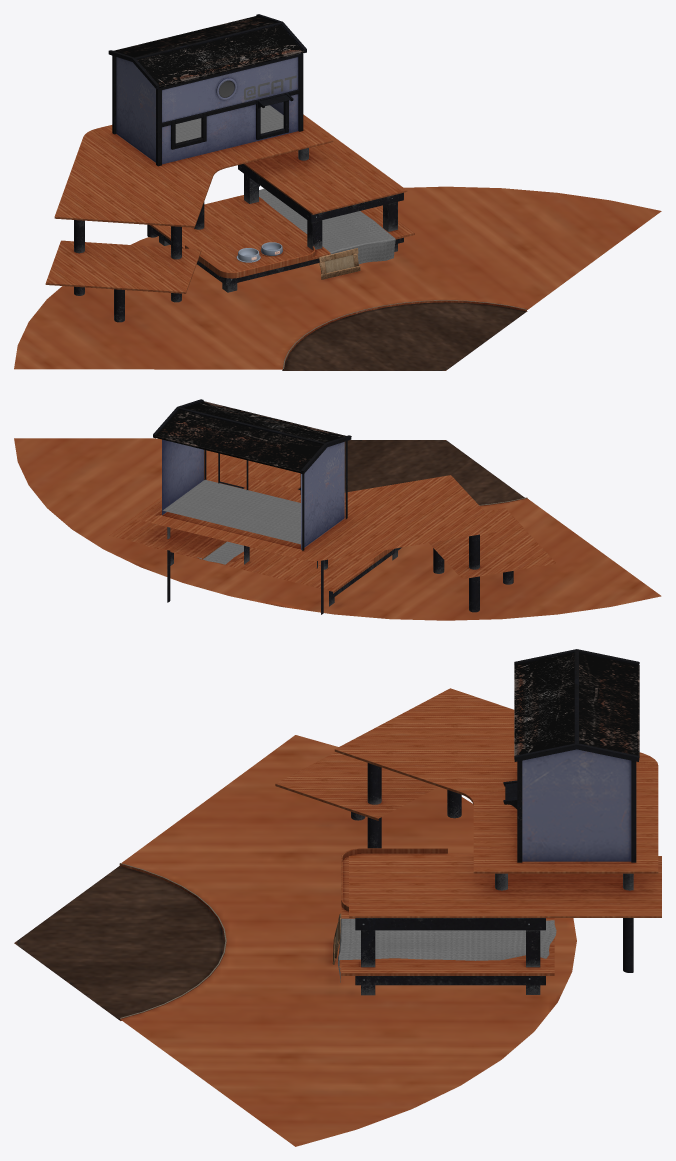
The model's file is house.gltf.
3 renders of one model, top to bottom at view 1: azimuth 30°, elevation 25°; view 2: azimuth 150°, elevation 25°; view 3: azimuth 270°, elevation 25°, orthographic. The views are drawn at different scales.
Visible parts, largest first — view 1: house_floor_mesh, house_planks_mesh, house_mesh, house_frame_mesh, house_pillar_mesh, house_carpet_mesh, house_board_mesh; view 2: house_floor_mesh, house_planks_mesh, house_mesh, house_carpet_mesh, house_frame_mesh, house_pillar_mesh; view 3: house_floor_mesh, house_planks_mesh, house_mesh, house_frame_mesh, house_carpet_mesh, house_pillar_mesh.
Part boxes in pixels (x1,y1,x2,y2): house_floor_mesh: (14, 186, 661, 370); house_planks_mesh: (45, 114, 414, 293); house_mesh: (113, 16, 304, 164); house_frame_mesh: (74, 148, 403, 322); house_pillar_mesh: (108, 14, 306, 166); house_carpet_mesh: (175, 105, 395, 264); house_board_mesh: (319, 248, 360, 279); house_floor_mesh: (14, 438, 661, 620); house_planks_mesh: (108, 453, 556, 593); house_mesh: (155, 401, 345, 549); house_carpet_mesh: (163, 479, 300, 564); house_frame_mesh: (167, 488, 513, 614); house_pillar_mesh: (153, 399, 351, 550); house_floor_mesh: (14, 735, 576, 1146); house_planks_mesh: (275, 688, 661, 975); house_mesh: (514, 653, 639, 861); house_frame_mesh: (351, 763, 633, 995); house_carpet_mesh: (337, 918, 556, 982); house_pillar_mesh: (503, 649, 639, 862).
Size of the model in its own units: 200 by 52.52 by 133.
9 materials, 9 textured.
